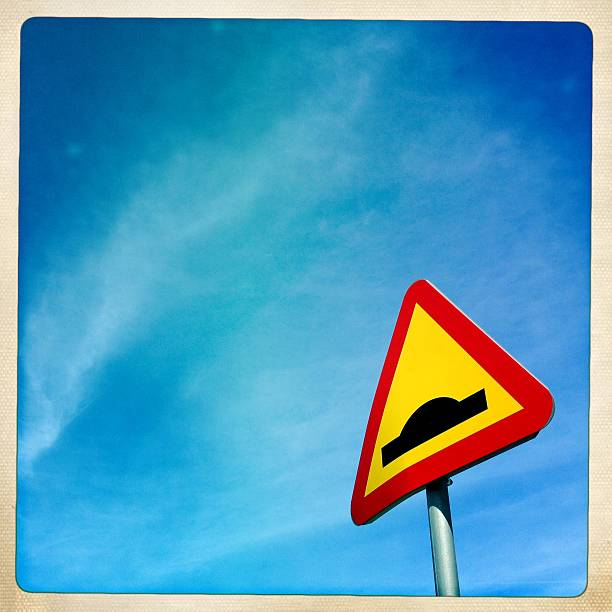speed-breaker: (350, 277, 554, 508)
